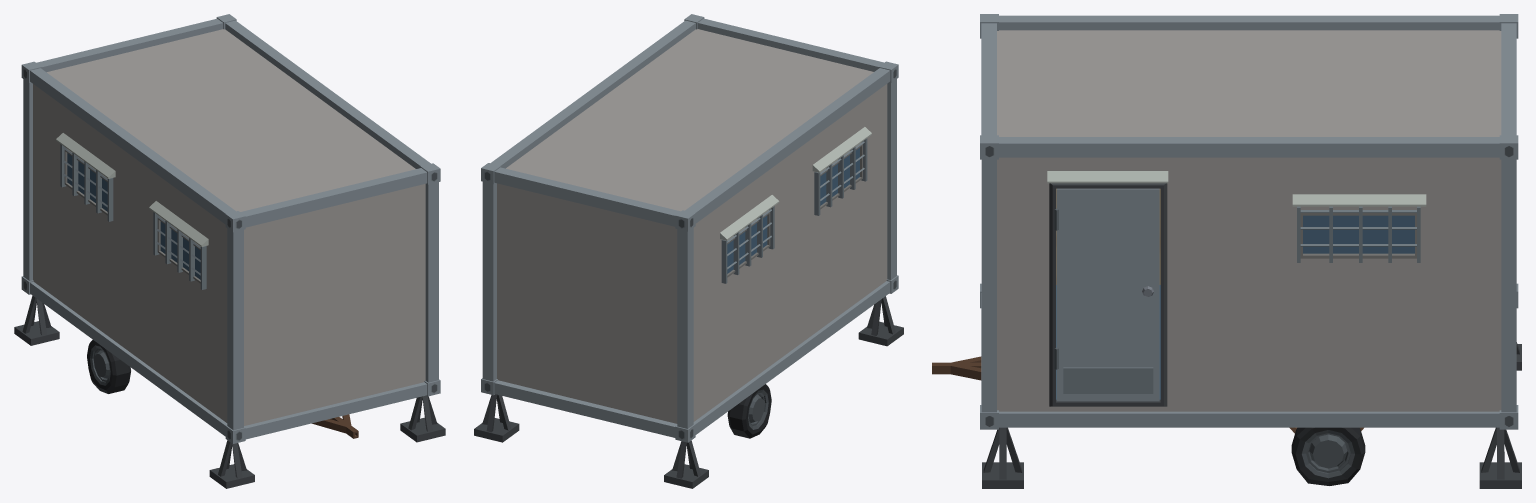
Rendered from SM_Bld_Portable_Office_01.fbx.
The picture shows the model from 3 angles, left to right: view 1: azimuth 30°, elevation 25°; view 2: azimuth 150°, elevation 25°; view 3: azimuth 270°, elevation 25°; orthographic projection. The views are drawn at different scales.
Visible parts, largest first — view 1: SM_Bld_Portable_Office_01, SM_Bld_Portable_Office_Glass_01; view 2: SM_Bld_Portable_Office_01, SM_Bld_Portable_Office_Glass_01; view 3: SM_Bld_Portable_Office_01, SM_Bld_Portable_Office_Door_01, SM_Bld_Portable_Office_Glass_01.
Boxes of the visible parts, left/top/right/bottom form: SM_Bld_Portable_Office_01: left=14, top=14, right=445, bottom=488; SM_Bld_Portable_Office_Glass_01: left=67, top=153, right=200, bottom=279; SM_Bld_Portable_Office_01: left=474, top=14, right=903, bottom=488; SM_Bld_Portable_Office_Glass_01: left=727, top=147, right=859, bottom=273; SM_Bld_Portable_Office_01: left=932, top=14, right=1521, bottom=488; SM_Bld_Portable_Office_Door_01: left=1056, top=188, right=1159, bottom=401; SM_Bld_Portable_Office_Glass_01: left=1303, top=215, right=1414, bottom=253.
Size of the model in its own units: 305 by 362 by 558.
